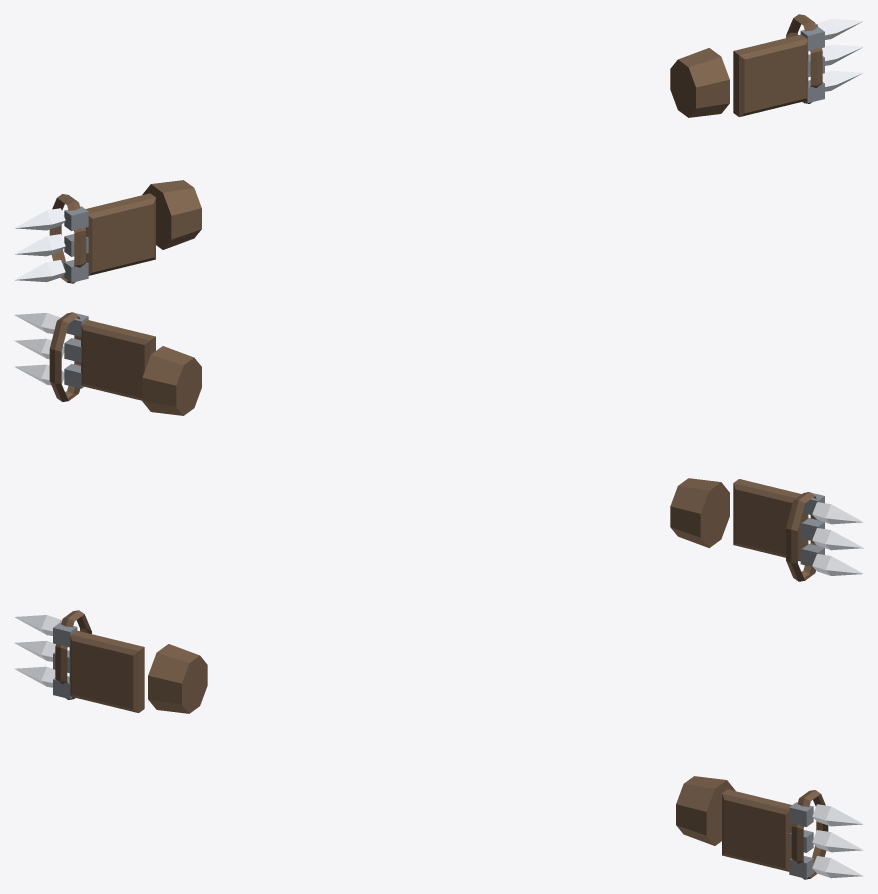
The model's file is tigerclaws.glb.
The picture shows the model from 3 angles, top to bottom: view 1: azimuth 30°, elevation 25°; view 2: azimuth 150°, elevation 25°; view 3: azimuth 330°, elevation 25°; orthographic projection.
Visible parts, largest first — view 1: Fist1L, Fist1R, Fist2R, LowerArmL, Fist2L, LowerArmR; view 2: Fist1L, Fist2R, Fist1R, Fist2L, LowerArmL, LowerArmR; view 3: Fist1R, Fist1L, Fist2L, LowerArmR, Fist2R, LowerArmL.
Boxes of the visible parts, box(x1,y1,x2,y2) form: Fist1L: box(733, 34, 808, 116); Fist1R: box(85, 193, 155, 275); Fist2R: box(14, 194, 88, 283); LowerArmL: box(670, 48, 729, 117); Fist2L: box(786, 14, 863, 103); LowerArmR: box(142, 180, 201, 249); Fist1L: box(81, 320, 155, 400); Fist2R: box(786, 492, 863, 581); Fist1R: box(733, 479, 808, 561); Fist2L: box(14, 312, 88, 401); LowerArmL: box(142, 346, 201, 415); LowerArmR: box(670, 478, 729, 547); Fist1R: box(69, 630, 144, 712); Fist1L: box(722, 789, 792, 871); Fist2L: box(789, 790, 863, 879); LowerArmR: box(148, 644, 207, 713); Fist2R: box(14, 610, 91, 699); LowerArmL: box(676, 776, 735, 845).
Size of the model in its own units: 3.44 by 0.3171 by 0.204.
